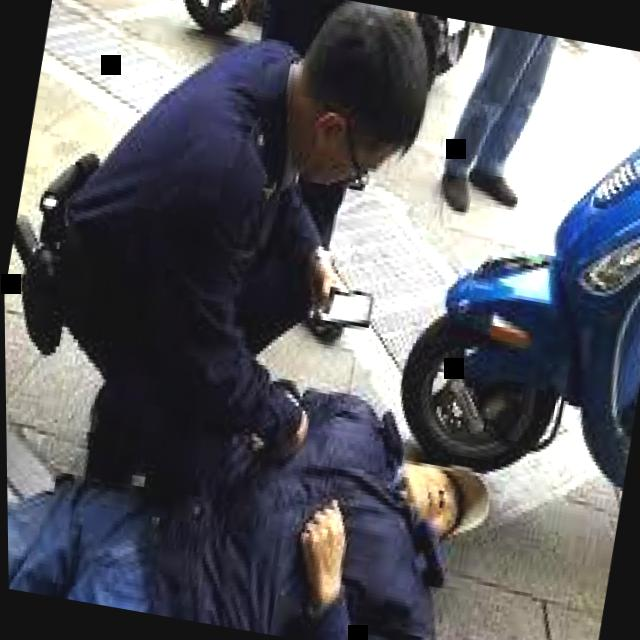Fall-Detected: (3, 292, 512, 640)
